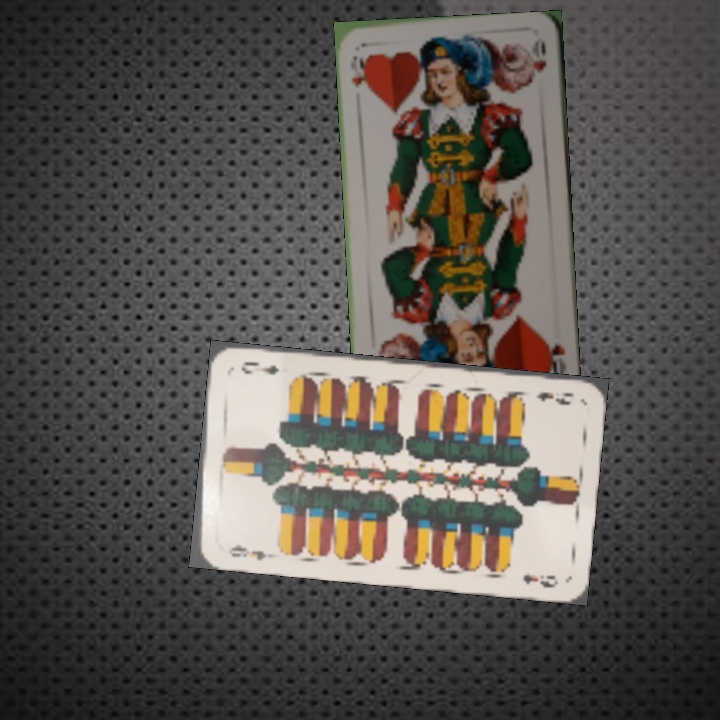E9: (224, 540, 274, 563), (531, 388, 576, 408)
HO: (543, 339, 569, 379), (347, 52, 371, 92)
